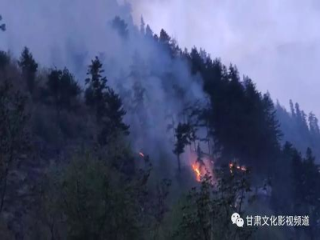fire: (191, 157, 221, 189)
smoke: (16, 3, 210, 159)
